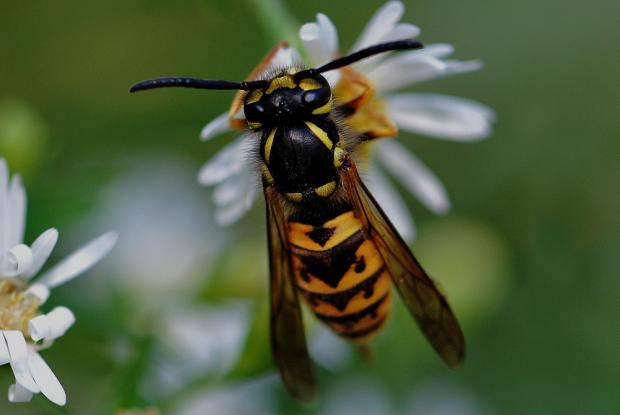chax: (115, 30, 513, 408)
